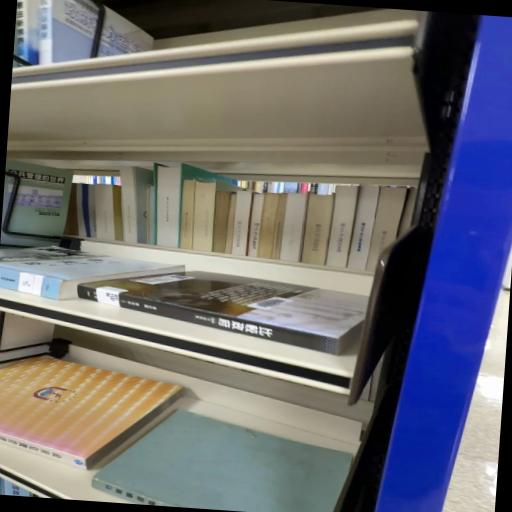flat: (93, 411, 352, 512), (79, 272, 368, 356), (1, 358, 183, 470), (1, 247, 185, 301)
